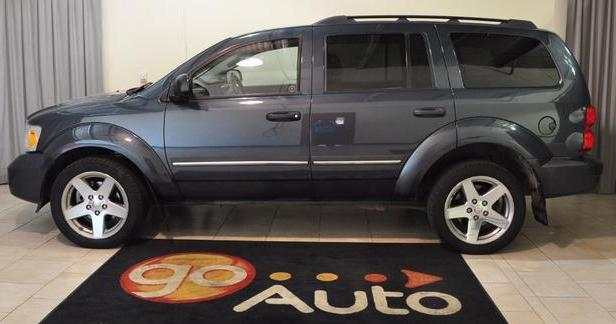backlight: (566, 97, 606, 160)
headlight: (17, 119, 55, 156)
side_glass: (162, 31, 451, 100)
